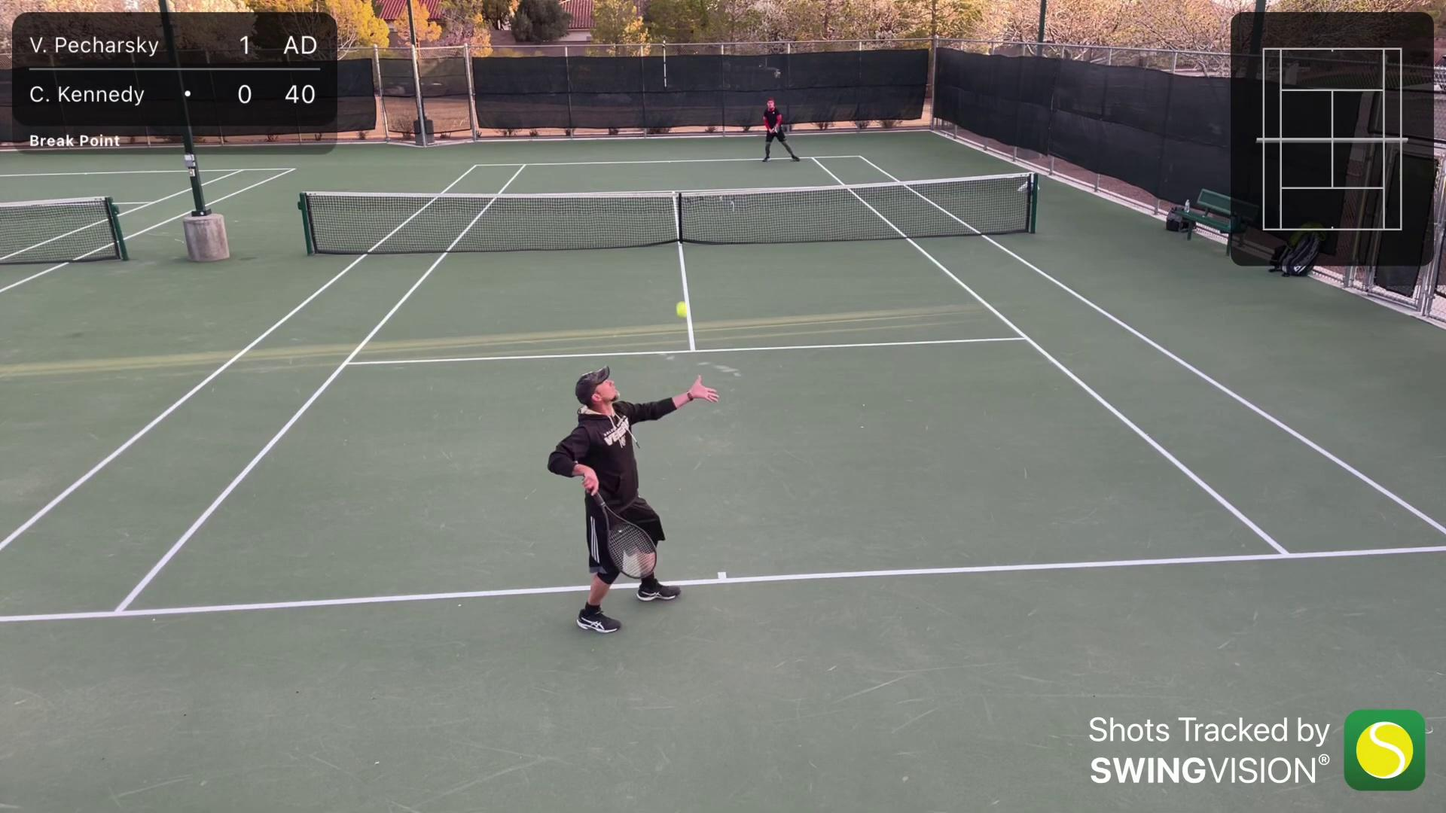ball: (674, 295, 690, 321)
